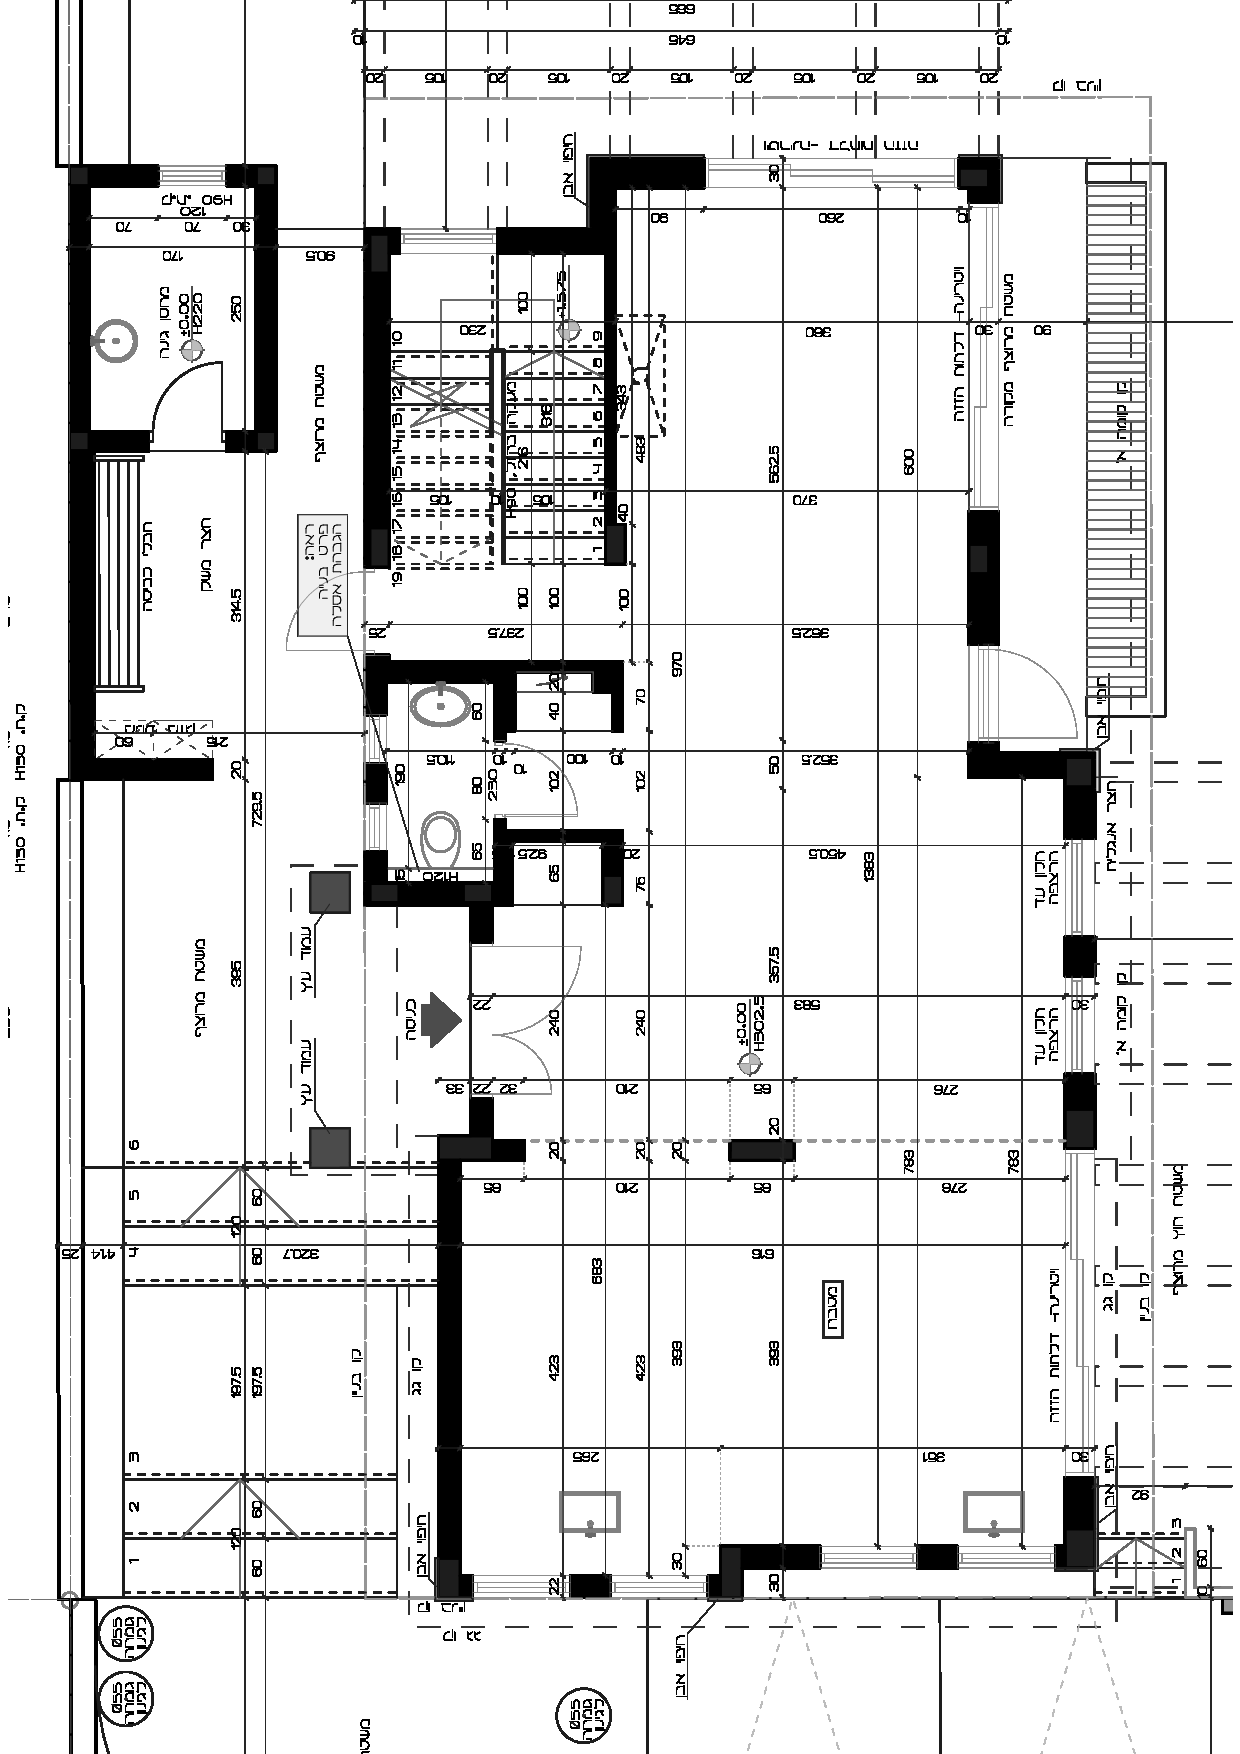door: (507, 934, 603, 1039), (1011, 646, 1082, 742), (156, 357, 229, 428)
wall: (439, 1165, 462, 1555), (71, 458, 87, 769), (259, 192, 275, 428), (369, 285, 385, 519), (72, 195, 87, 428), (370, 663, 507, 682), (599, 158, 694, 185), (607, 197, 615, 506), (78, 760, 209, 778), (495, 835, 511, 903)
window: (817, 1537, 919, 1580), (955, 1537, 1057, 1580), (1059, 974, 1100, 1075), (1060, 837, 1100, 938), (399, 221, 499, 259), (156, 158, 227, 191)
